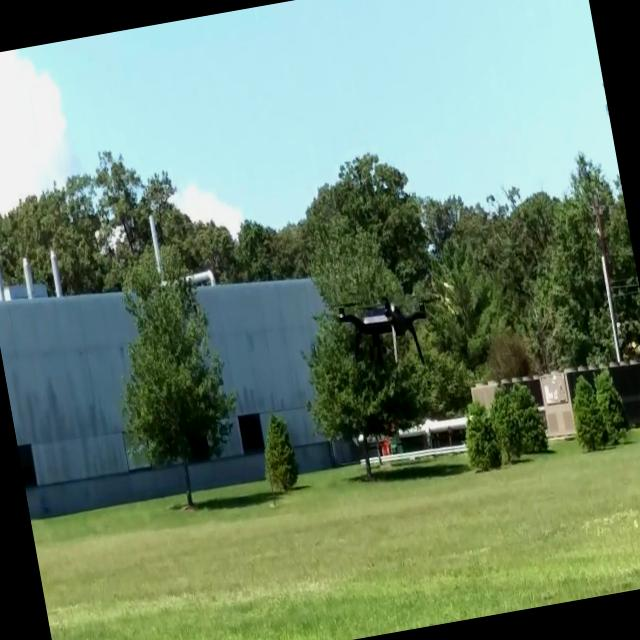drone: (332, 282, 436, 374)
